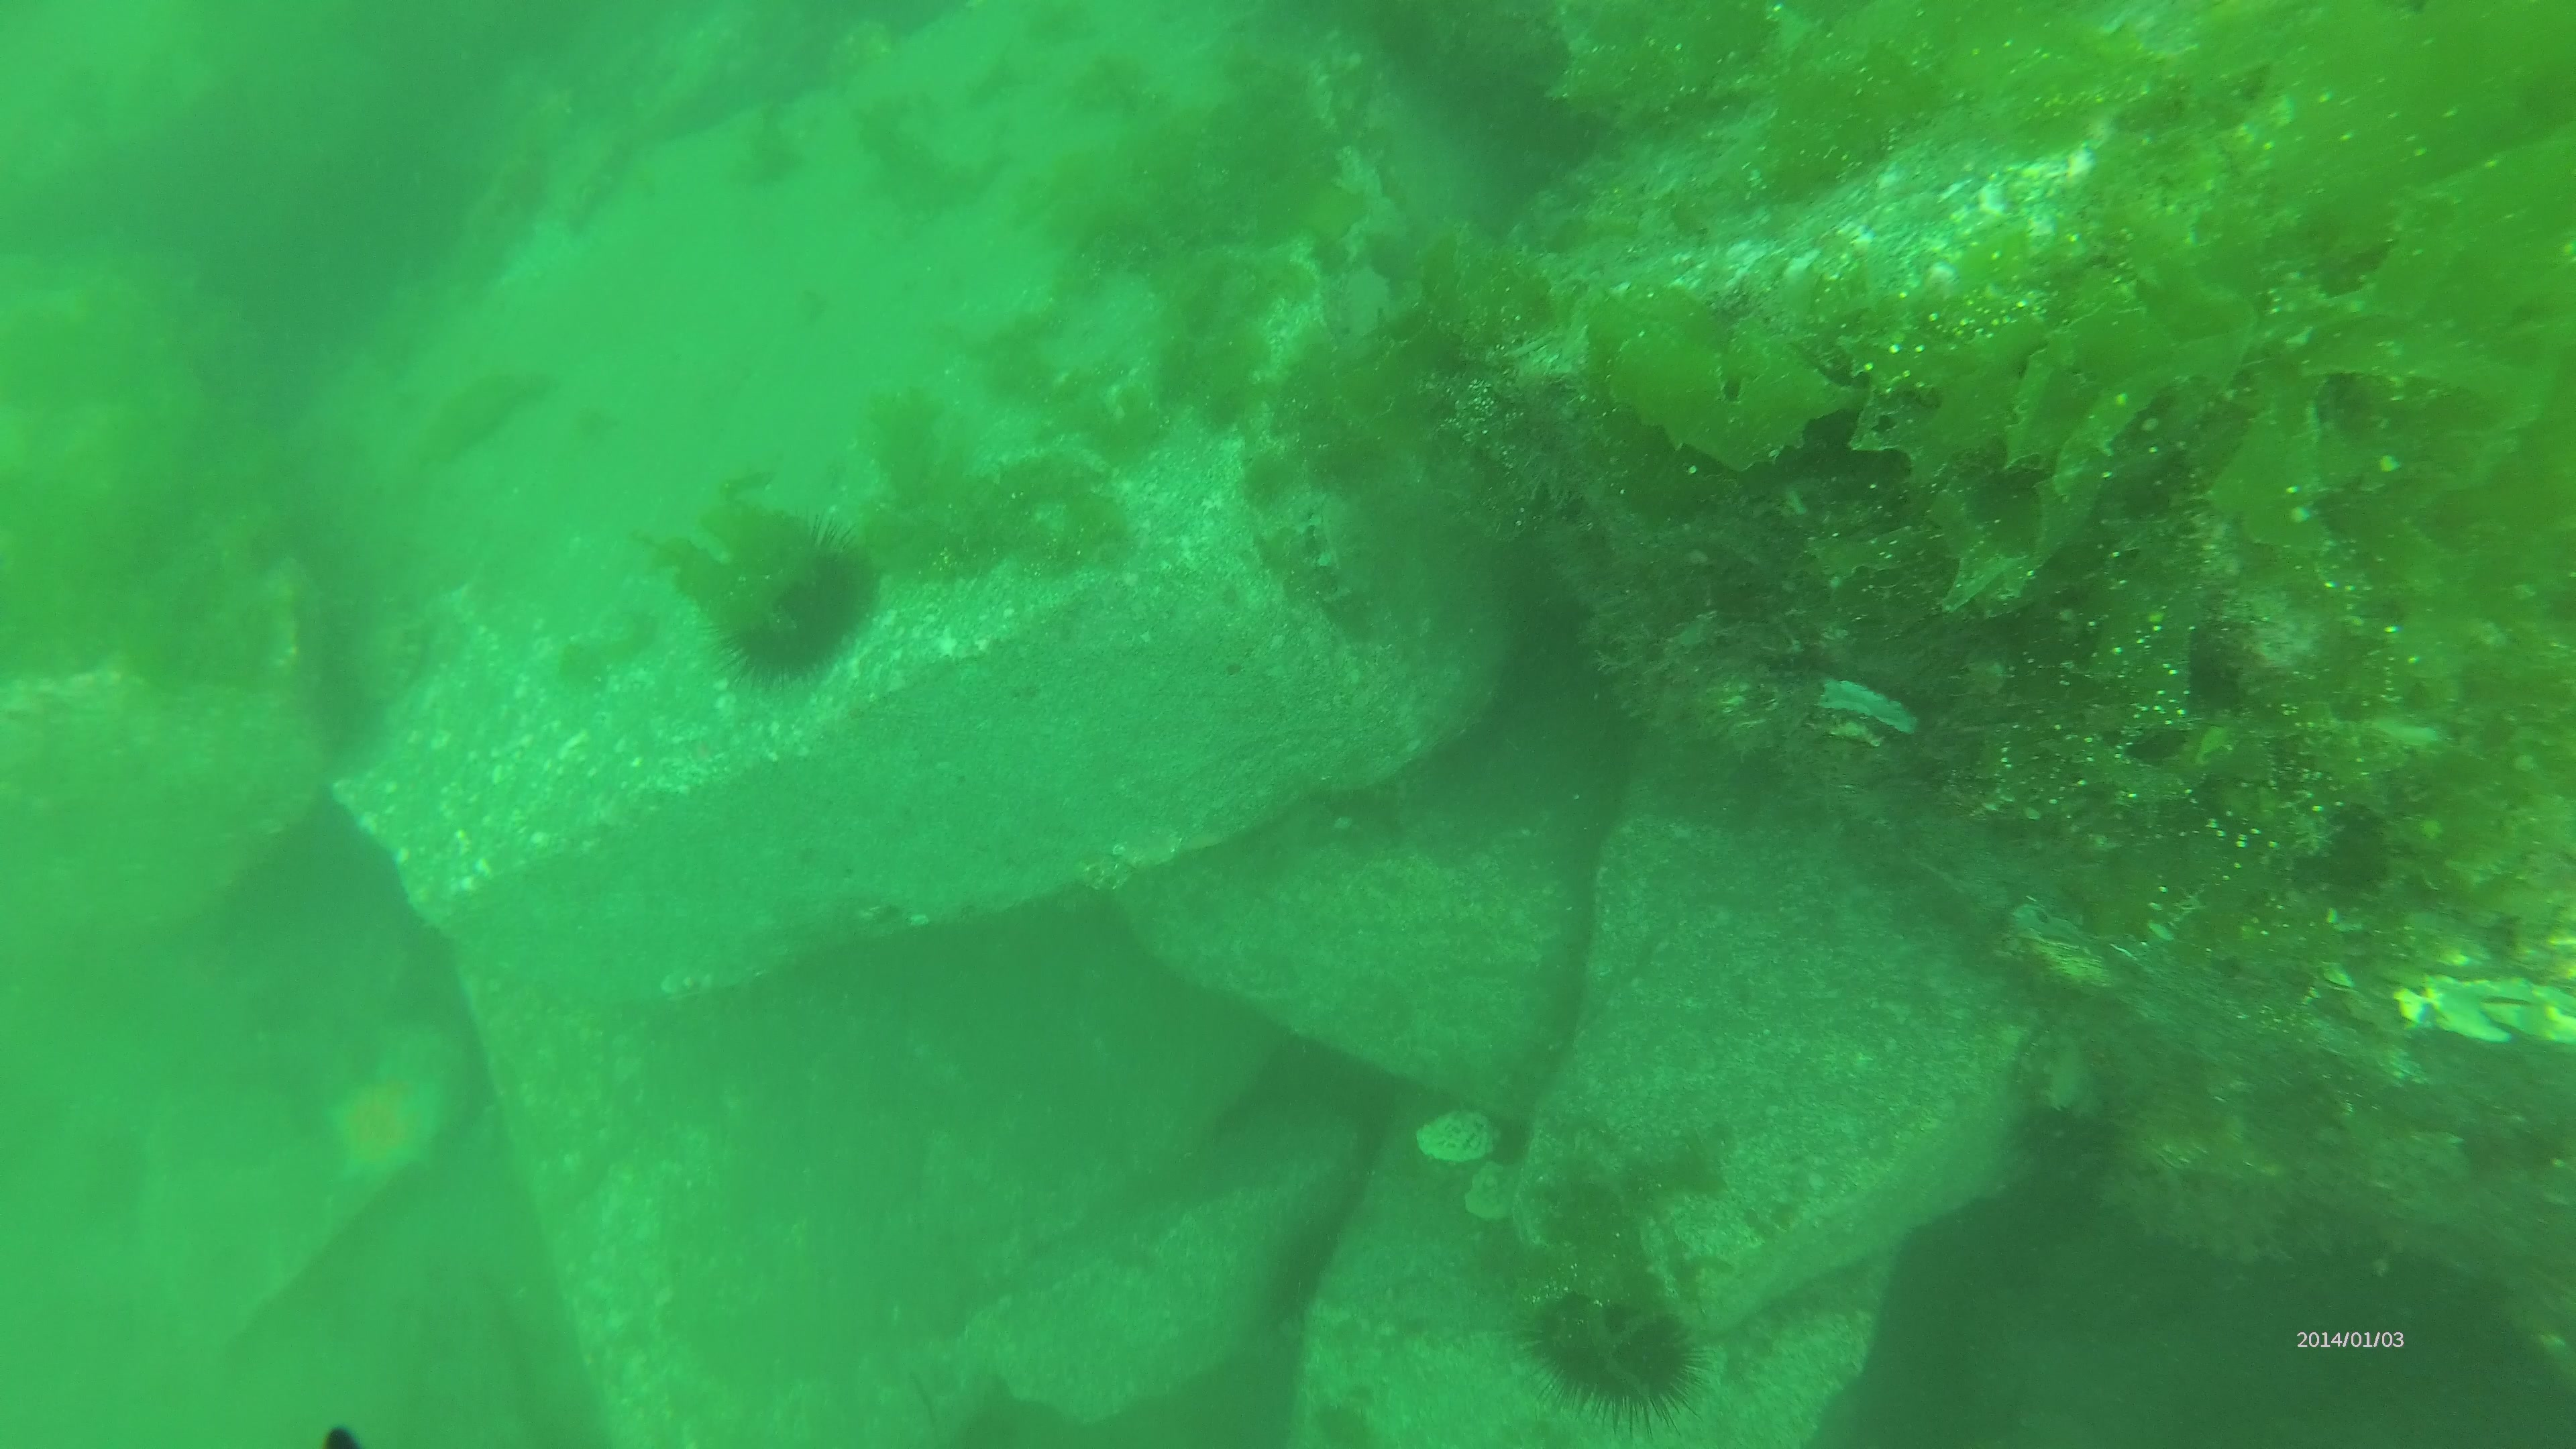echinus: (694, 508, 881, 697), (1511, 1284, 1720, 1444)
scallop: (1415, 1108, 1506, 1166)
starfish: (320, 1058, 448, 1198)
